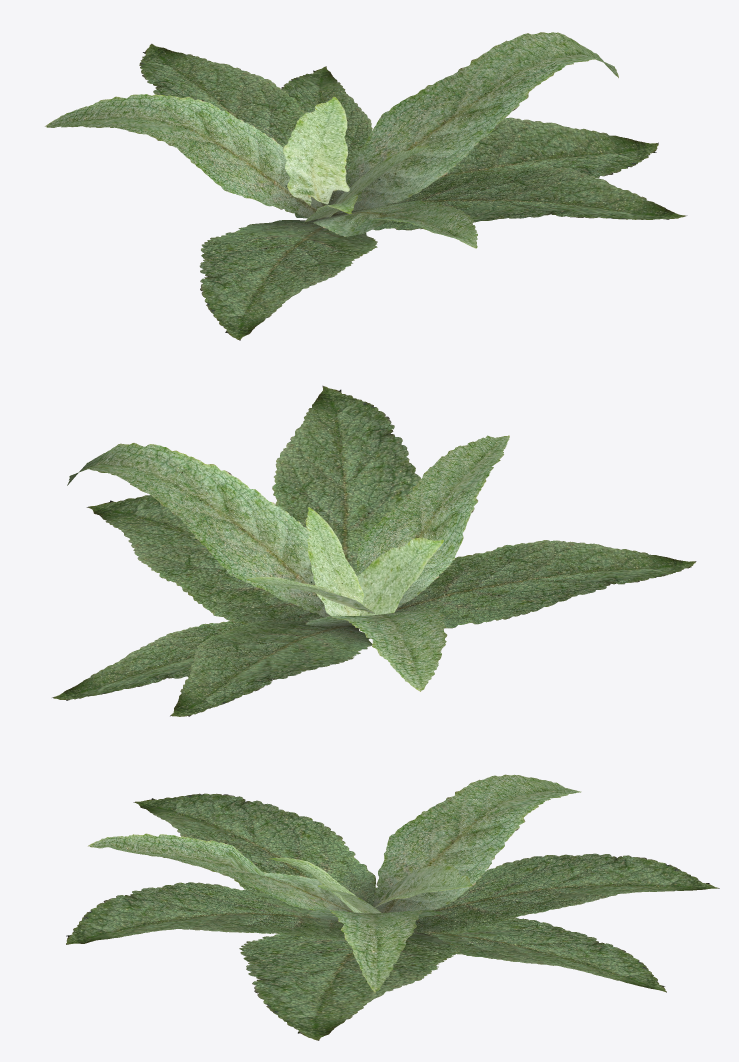
The model's file is mottenkruid.fbx.
3 views of the same model, one above another, from view 1: azimuth 30°, elevation 25°; view 2: azimuth 150°, elevation 25°; view 3: azimuth 270°, elevation 25° (orthographic). The views are drawn at different scales.
Parts seen in each view (by area): view 1: mottenkruid_1; view 2: mottenkruid_1; view 3: mottenkruid_1.
Part boxes in pixels (bbox=[...]): mottenkruid_1: bbox=[45, 32, 687, 340]; mottenkruid_1: bbox=[52, 385, 696, 716]; mottenkruid_1: bbox=[66, 774, 719, 1040].
Size of the model in its own units: 971 by 193 by 1053.
1 material, 1 textured.
